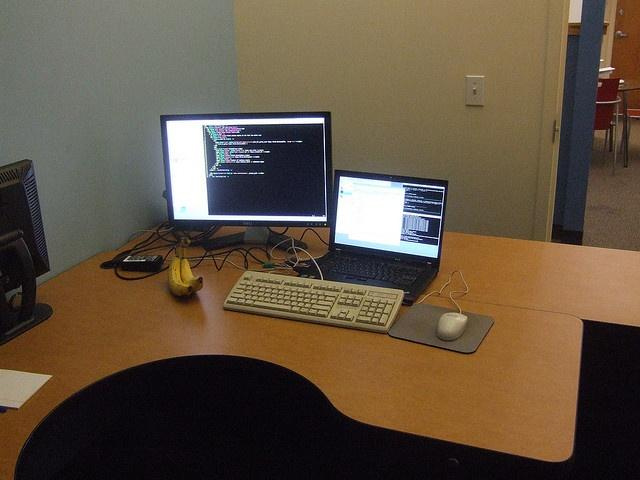AIO PC-Monitor-TV: (159, 111, 333, 251)
Meja: (0, 248, 585, 479), (115, 210, 639, 332)
